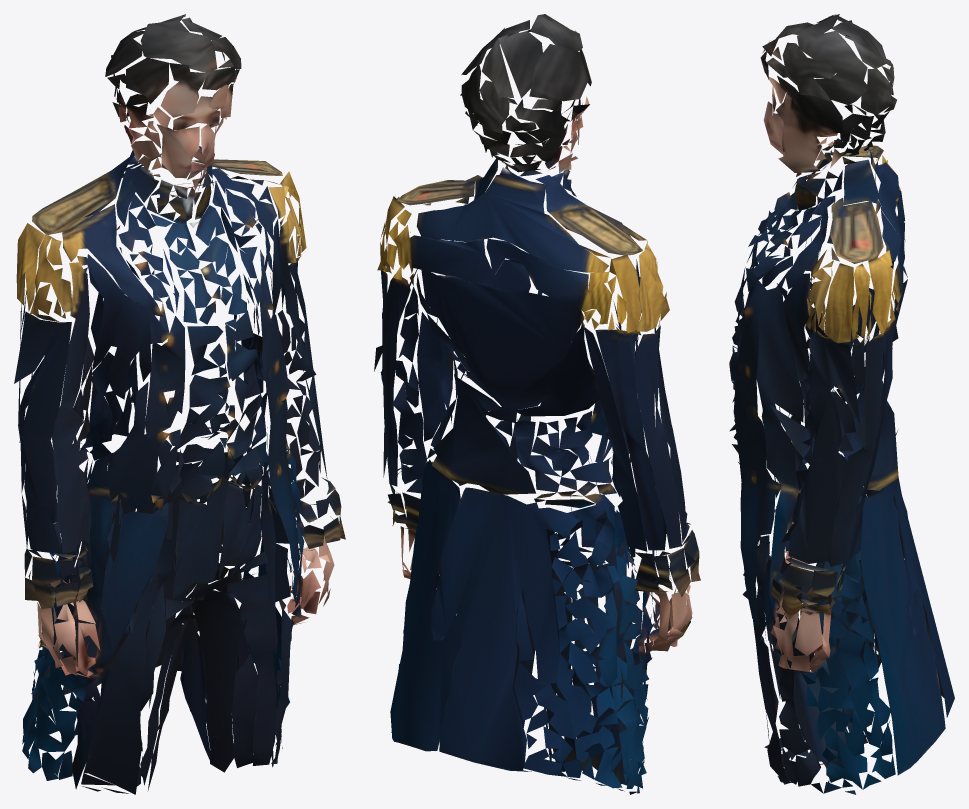
File: char_adult_m_officer.glb
The picture shows the model from 3 angles, left to right: view 1: azimuth 30°, elevation 25°; view 2: azimuth 150°, elevation 25°; view 3: azimuth 270°, elevation 25°; orthographic projection. The views are drawn at different scales.
Visible parts, largest first — view 1: geometry_0; view 2: geometry_0; view 3: geometry_0.
Part boxes in pixels (x1=…): geometry_0: x1=14, y1=14, x2=345, y2=794; geometry_0: x1=374, y1=14, x2=700, y2=794; geometry_0: x1=729, y1=14, x2=954, y2=794.
Bounding box in the file's own units: 0.7868 × 1.8 × 0.5086.
1 material, 1 textured.
